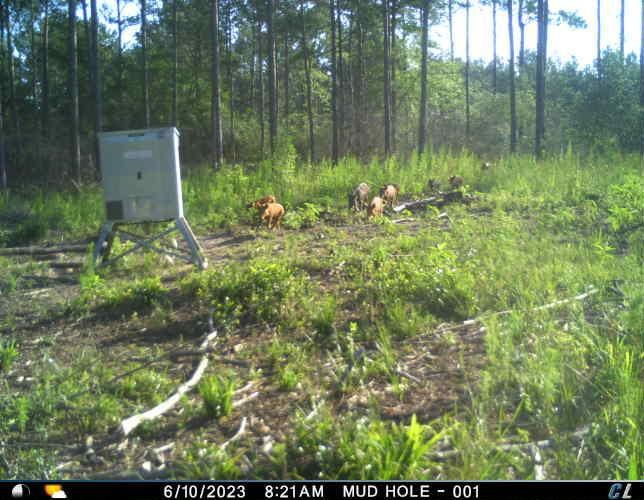Hog: (249, 198, 289, 232), (348, 179, 370, 210), (363, 195, 388, 218), (377, 182, 397, 206), (447, 172, 466, 189)
